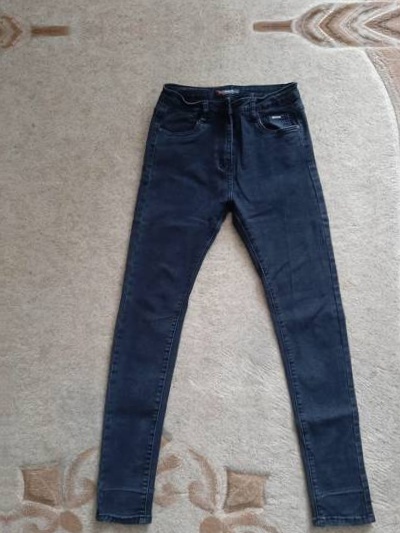Pants: (59, 79, 380, 533)
